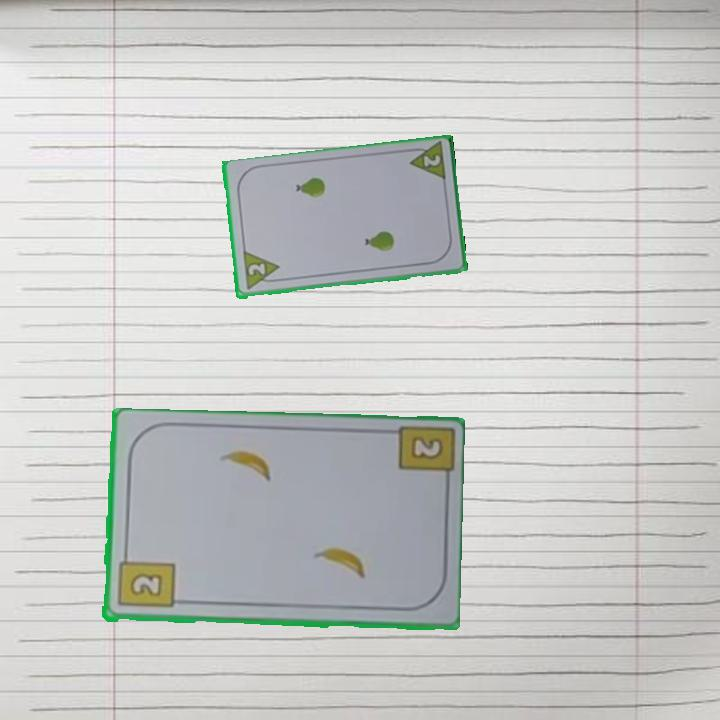2b: (114, 549, 176, 612), (410, 436, 442, 461)
2p: (403, 140, 448, 184), (244, 260, 268, 278)
